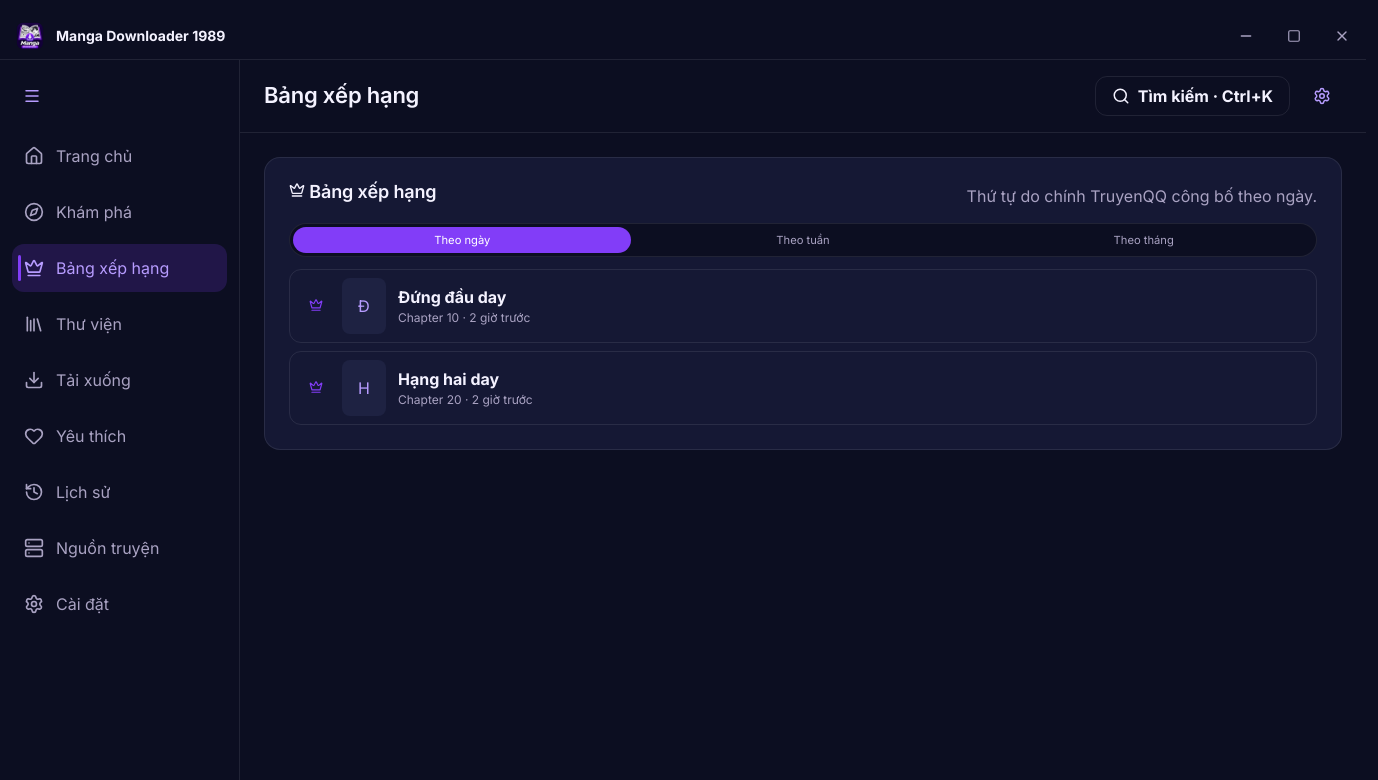
Test: Discover Phase 2 — ranking screen › shows the source's own order and refetches per period
Expected: the text "Đứng đầu day" is shown, [398,288,506,308]
Expected: the text "Hạng hai day" is shown, [398,370,499,390]
Click the tab "Theo tháng". click: {"x": 1144, "y": 240}
box: [974,227,1313,253]
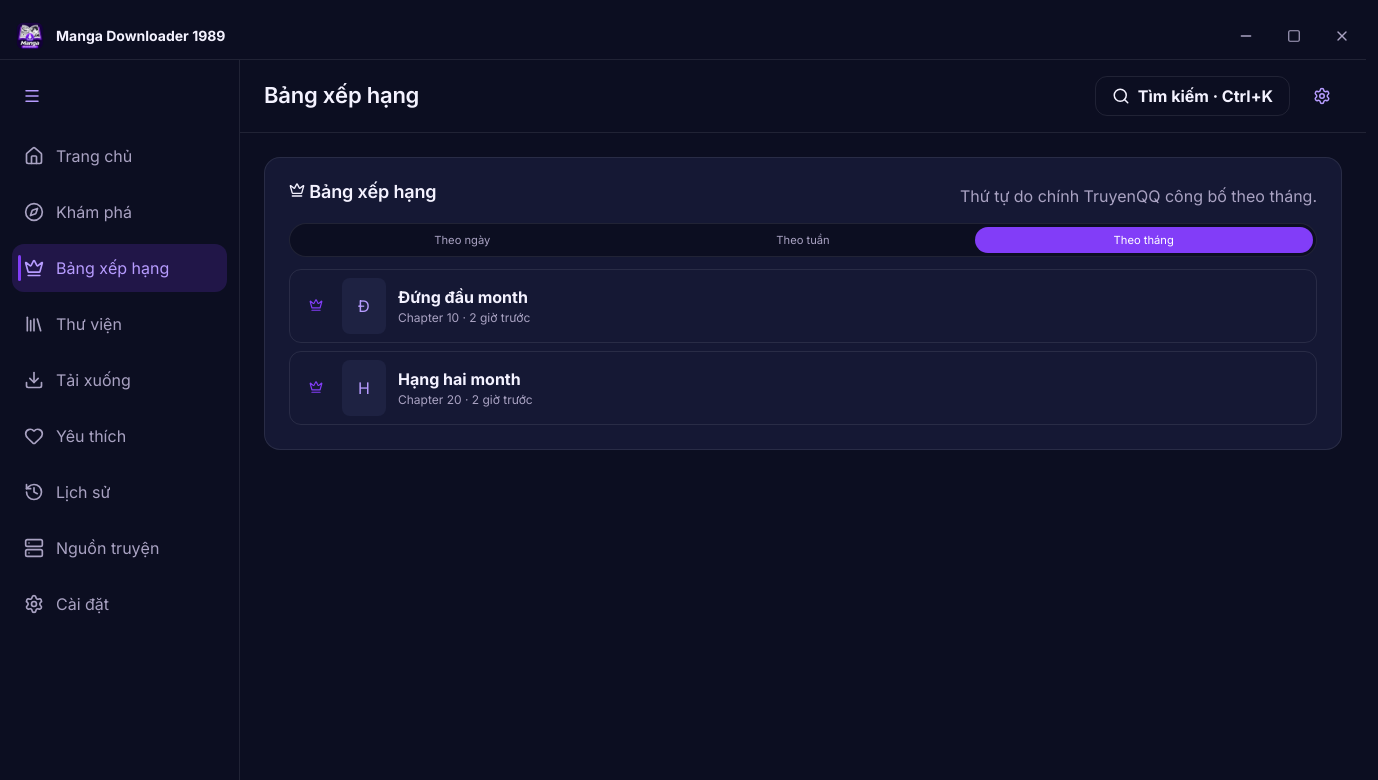
Expected: the text "Đứng đầu month" is shown, [398,288,528,308]
